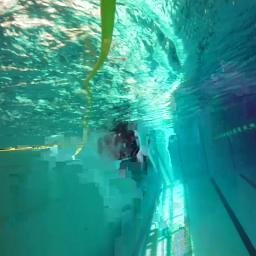Full: (97, 124, 153, 179), (97, 129, 149, 168)
